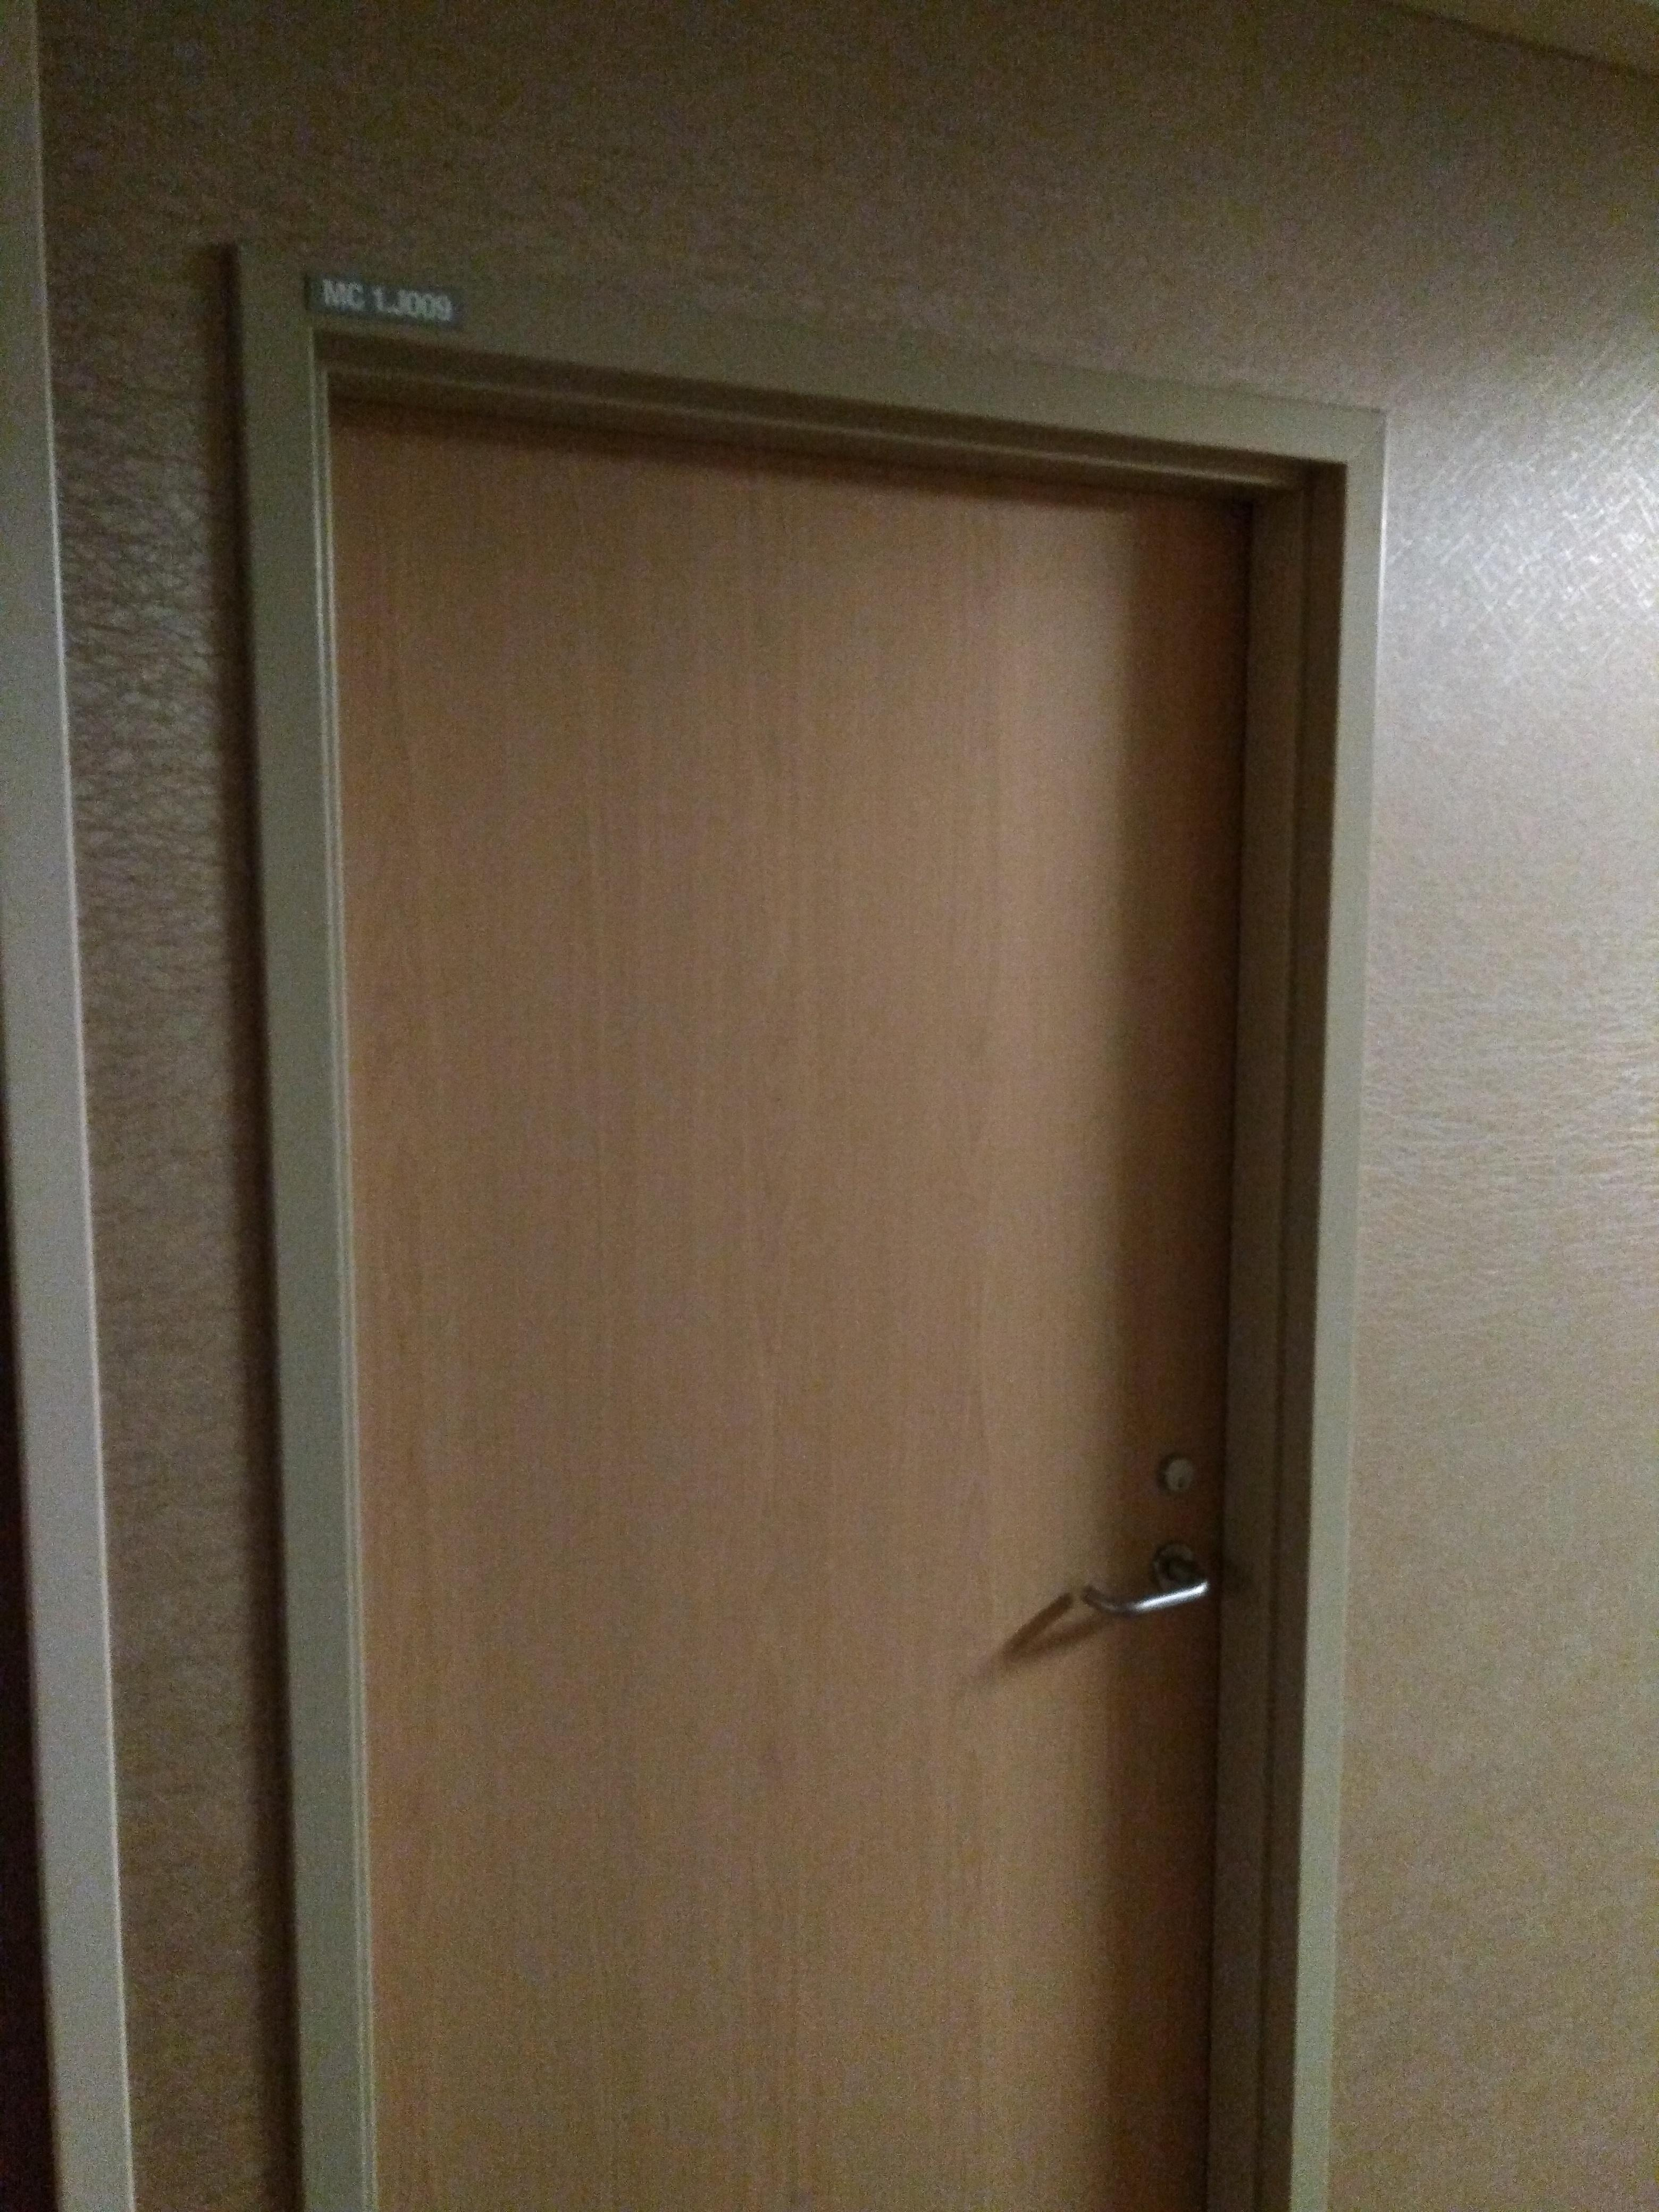door: (288, 329, 1277, 2212)
